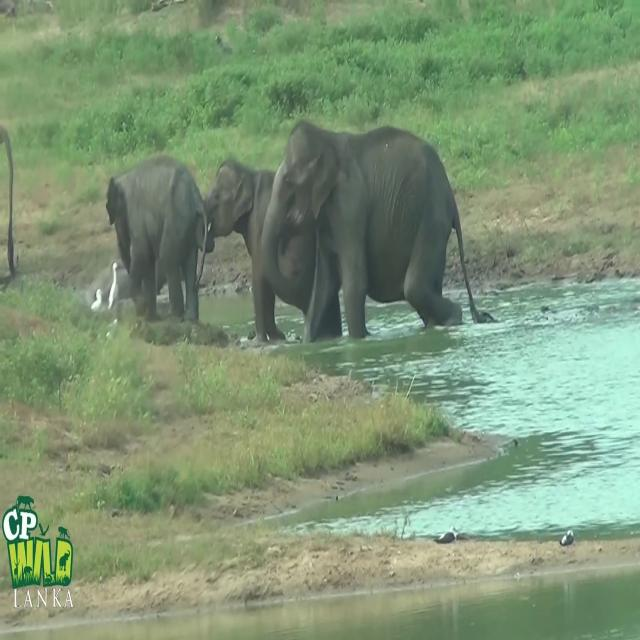Elephant: (260, 117, 495, 344), (197, 158, 341, 342), (106, 152, 207, 323)
